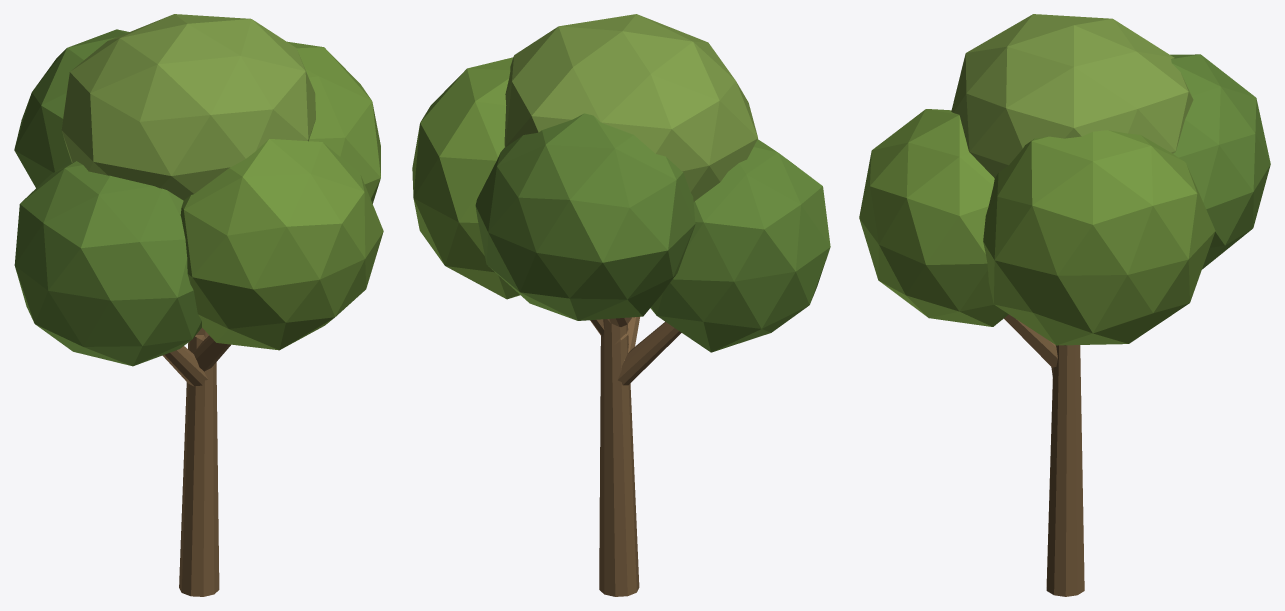
File: tree.glb
The picture shows the model from 3 angles, left to right: view 1: azimuth 30°, elevation 25°; view 2: azimuth 150°, elevation 25°; view 3: azimuth 270°, elevation 25°; orthographic projection.
Visible parts, largest first — view 1: Faceted trunk; view 2: Faceted trunk; view 3: Faceted trunk.
Boxes of the visible parts, box(x1,y1,x2,y2) form: Faceted trunk: box(14, 14, 383, 596); Faceted trunk: box(412, 14, 830, 596); Faceted trunk: box(859, 14, 1270, 596).
Bounding box in the file's own units: 4 × 6 × 4.
